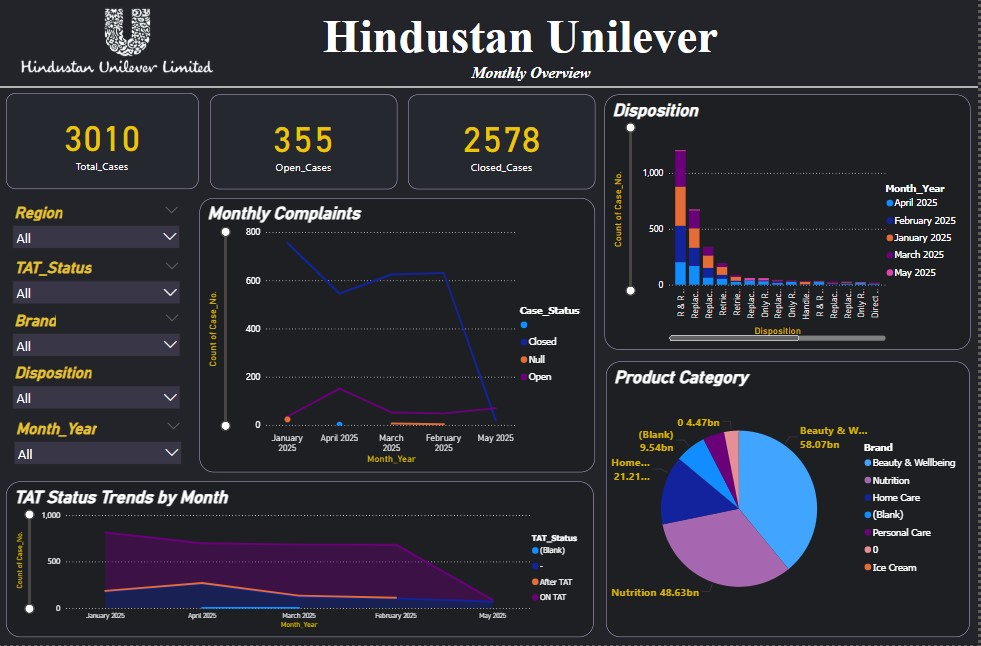

Layout of this report page (visuals, bound fields, positions):
{"tool":"powerbi","page":{"name":"Page 1","canvas":[1500,1000],"ordinal":0},"visuals":[{"type":"slicer","title":"Region","fields":{"Values":["Replacement_&_Retrieval.Region"]},"box":[10.1,315.4,277,93],"z":0},{"type":"slicer","title":"Month-Year","fields":{"Values":["Replacement_&_Retrieval.Month_Year"]},"box":[12.5,647.5,277.5,92.5],"z":1000},{"type":"slicer","title":"Brand","fields":{"Values":["Replacement_&_Retrieval.Brand"]},"box":[10,480,277.5,92.5],"z":2000},{"type":"columnChart","title":"Disposition","fields":{"Category":["Replacement_&_Retrieval.Disposition"],"Y":["CountNonNull(Replacement_&_Retrieval.Case_No.)"],"Series":["Replacement_&_Retrieval.Month_Year"]},"box":[927.2,154.1,561.4,391.1],"z":3000},{"type":"pieChart","title":"Product Category","fields":{"Category":["Replacement_&_Retrieval.Brand"],"Y":["Sum(Replacement_&_Retrieval.Case_No.)"]},"box":[929.9,564,558,422.5],"z":4000},{"type":"card","fields":{"Values":["Replacement_&_Retrieval.Total_Cases"]},"box":[10,152.5,295,147.5],"z":5000},{"type":"card","fields":{"Values":["Replacement_&_Retrieval.Open_Cases"]},"box":[321.4,153.6,287.1,145.6],"z":6000},{"type":"card","fields":{"Values":["Replacement_&_Retrieval.Closed_Cases"]},"box":[624.7,153.6,287.1,145.6],"z":7000},{"type":"slicer","title":"Disposition","fields":{"Values":["Replacement_&_Retrieval.Disposition"]},"box":[10,562.5,277.5,90],"z":8000},{"type":"lineChart","title":"Monthly Complaints","fields":{"Category":["Replacement_&_Retrieval.Month_Year"],"Y":["CountNonNull(Replacement_&_Retrieval.Case_No.)"],"Series":["Replacement_&_Retrieval.Case_Status"]},"box":[305.3,313.3,606.5,420.5],"z":9000},{"type":"textbox","box":[490,17.5,637.5,122.5],"z":10000},{"type":"stackedAreaChart","title":"TAT Status Trends by Month","fields":{"Category":["Replacement_&_Retrieval.Month_Year"],"Y":["CountNonNull(Replacement_&_Retrieval.Case_No.)"],"Series":["Replacement_&_Retrieval.TAT_Status"]},"box":[10.1,748,901.6,238.5],"z":11000},{"type":"slicer","title":"Status","fields":{"Values":["Replacement_&_Retrieval.TAT_Status"]},"box":[10,400,277.5,95],"z":12000},{"type":"shape","box":[0,135.7,1500,13.8],"z":13000},{"type":"image","box":[0,0,390,142.5],"z":14000}]}

Visuals, with their boxes in screenshot pixels (x1, y1, x2, y2), scaled from the page's 1500x1000 canvas onto the 981x646 screenshot:
"Region" slicer: Rect(7, 204, 188, 264)
"Month-Year" slicer: Rect(8, 418, 190, 478)
"Brand" slicer: Rect(7, 310, 188, 370)
"Disposition" columnChart: Rect(606, 100, 974, 352)
"Product Category" pieChart: Rect(608, 364, 973, 637)
card - Replacement_&_Retrieval.Total_Cases: Rect(7, 99, 199, 194)
card - Replacement_&_Retrieval.Open_Cases: Rect(210, 99, 398, 193)
card - Replacement_&_Retrieval.Closed_Cases: Rect(409, 99, 596, 193)
"Disposition" slicer: Rect(7, 363, 188, 422)
"Monthly Complaints" lineChart: Rect(200, 202, 596, 474)
textbox: Rect(320, 11, 737, 90)
"TAT Status Trends by Month" stackedAreaChart: Rect(7, 483, 596, 637)
"Status" slicer: Rect(7, 258, 188, 320)
shape: Rect(0, 88, 980, 97)
image: Rect(0, 0, 255, 92)
